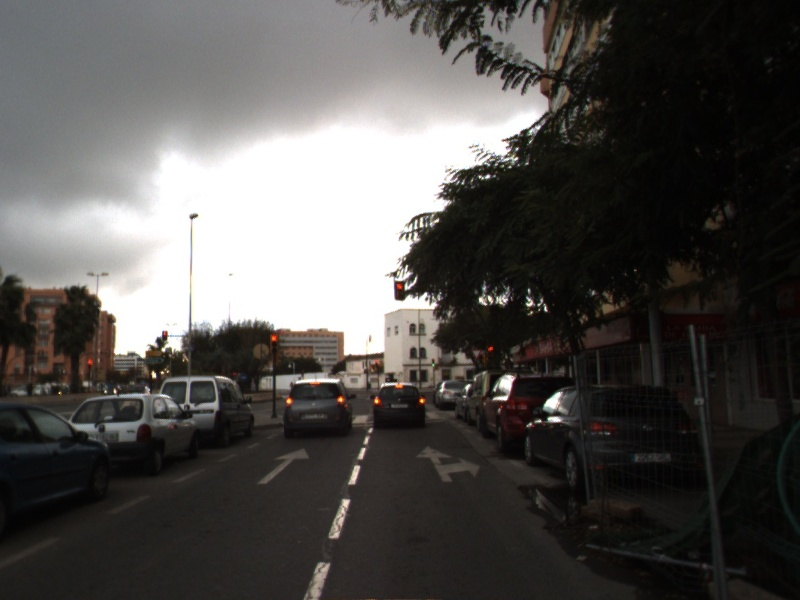STRAIGHT: (256, 446, 311, 485)
STRAIGHT_RIGHT: (415, 444, 482, 483)
